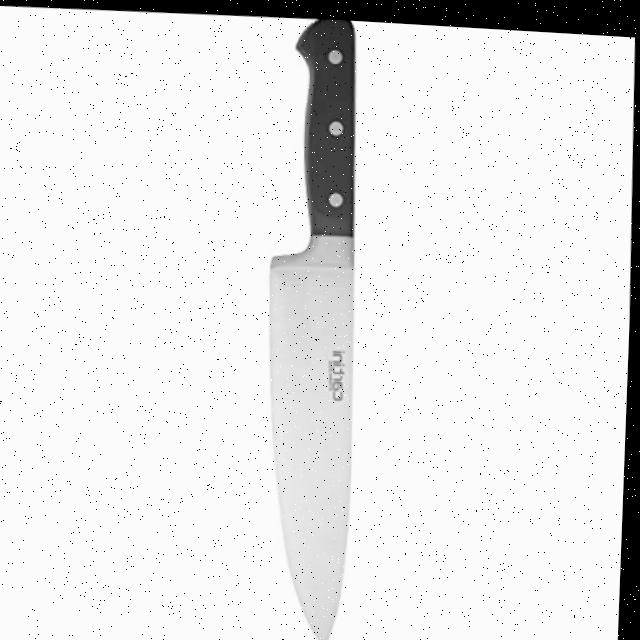knife: (253, 13, 376, 640)
